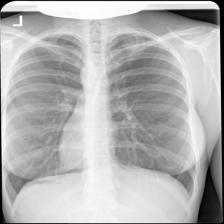tuberculosis: (0, 24, 202, 222)
